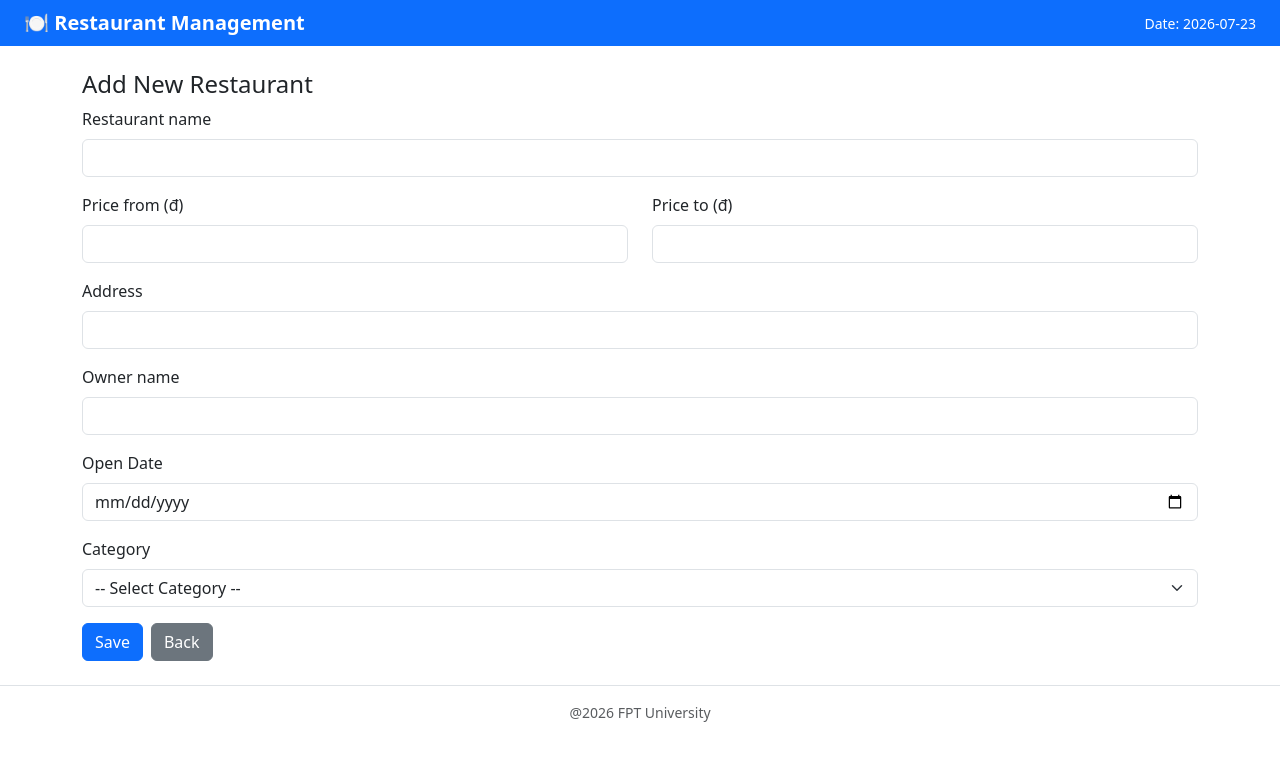
Test: AddNewRestaurantPage — validation › hiển thị lỗi MS02 khi price from < 1000
Type "500" into the number field labelled "Price from (đ)" at point(355, 244), box [82,225,628,263]
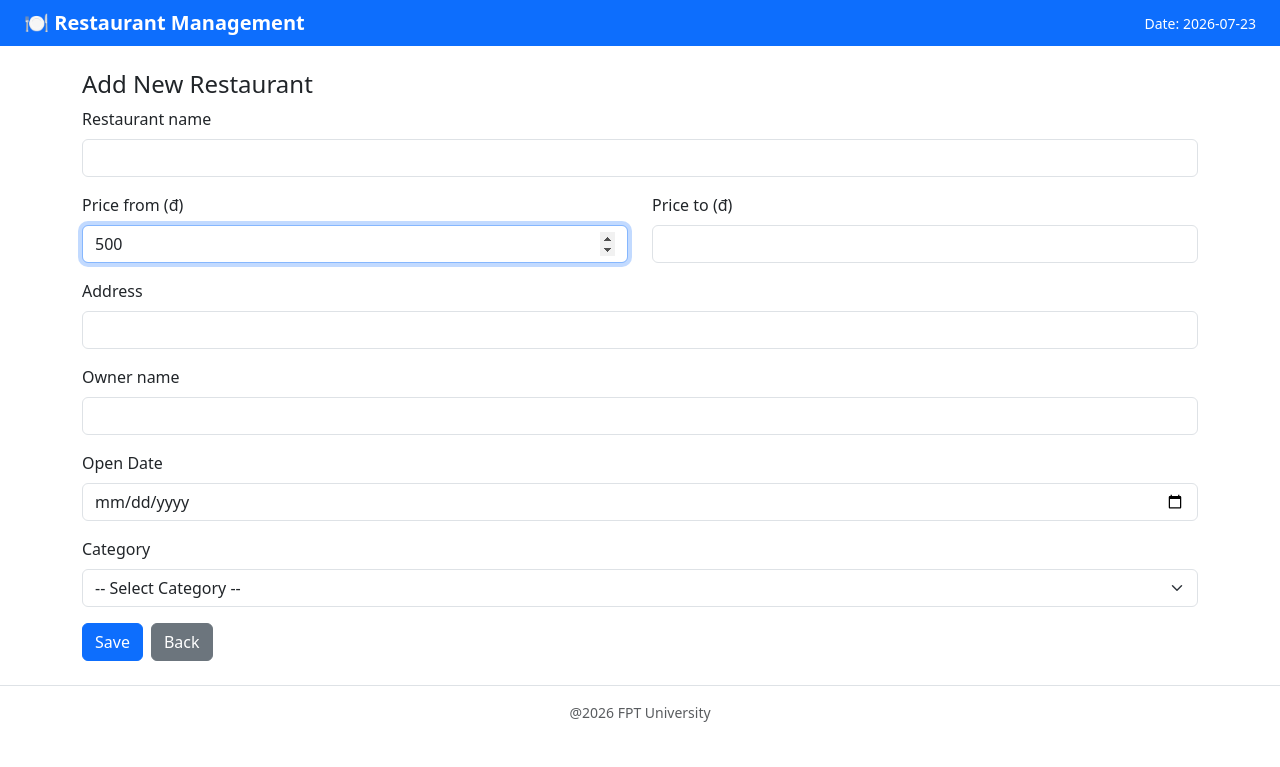
Click the button "Save" at point(112, 642), box [82,623,143,661]
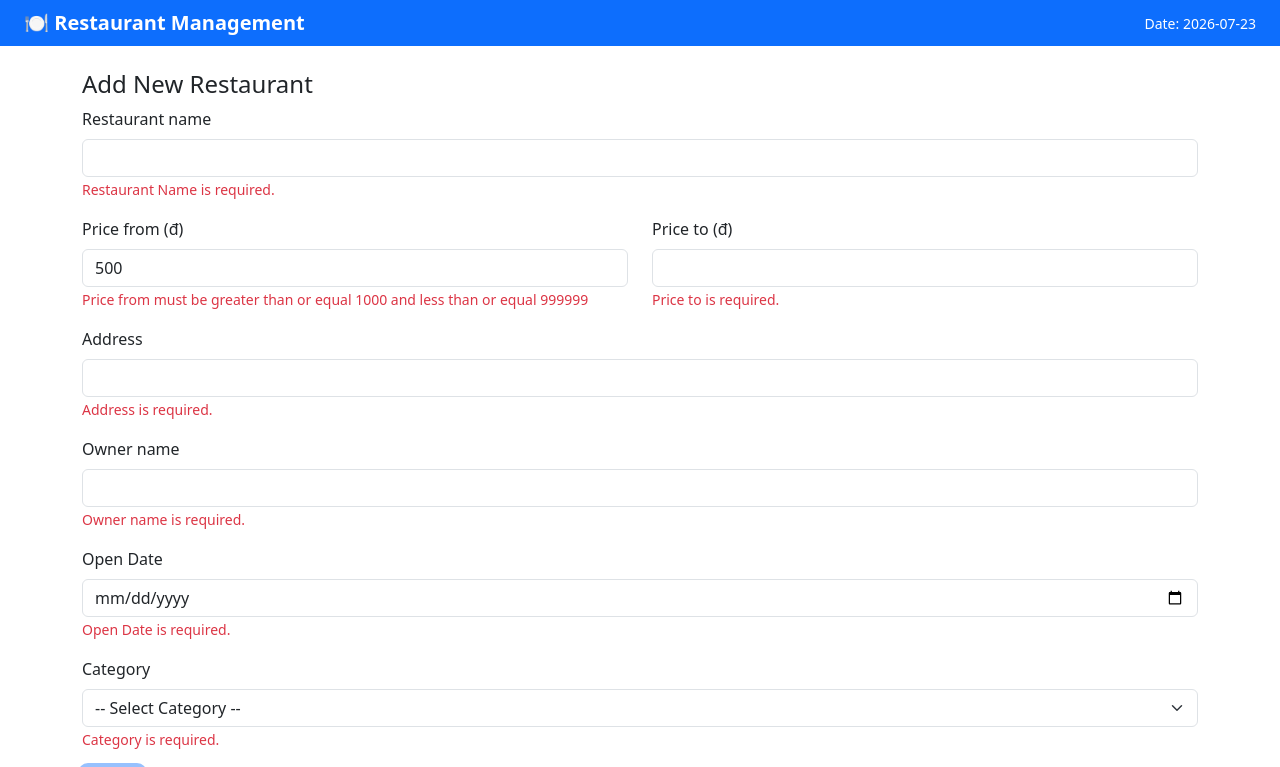
expect the text "1000" is shown: met, box [82,290,588,309]
